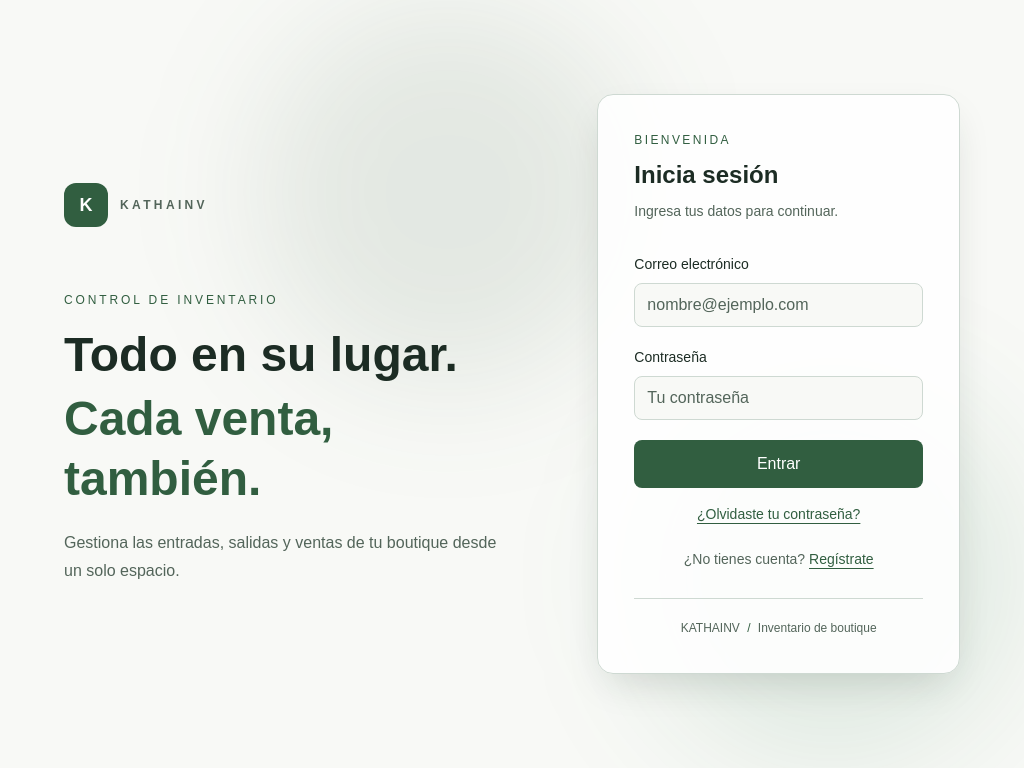
Test: LoginForm › muestra el error genérico devuelto al fallar el inicio de sesión
Type "otro@ejemplo.com" into the field labelled "Correo electrónico" at (779, 305), box 634,283 -> 923,327
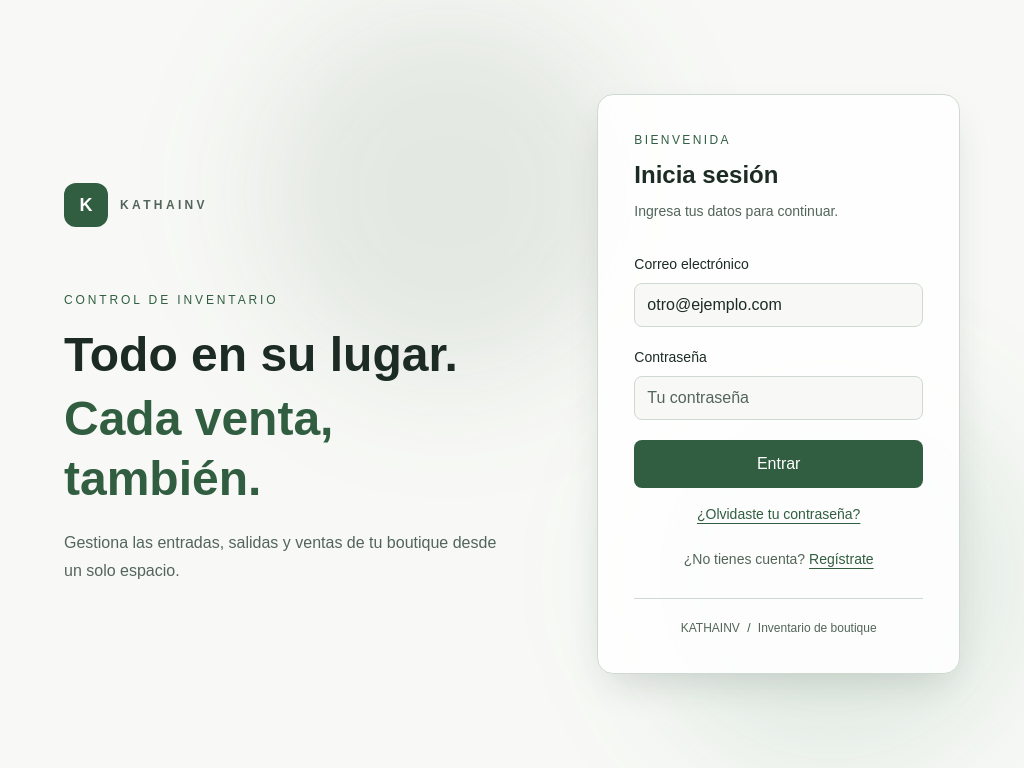
Type "incorrecta" into the password field labelled "Contraseña" at (779, 398), box 634,376 -> 923,420
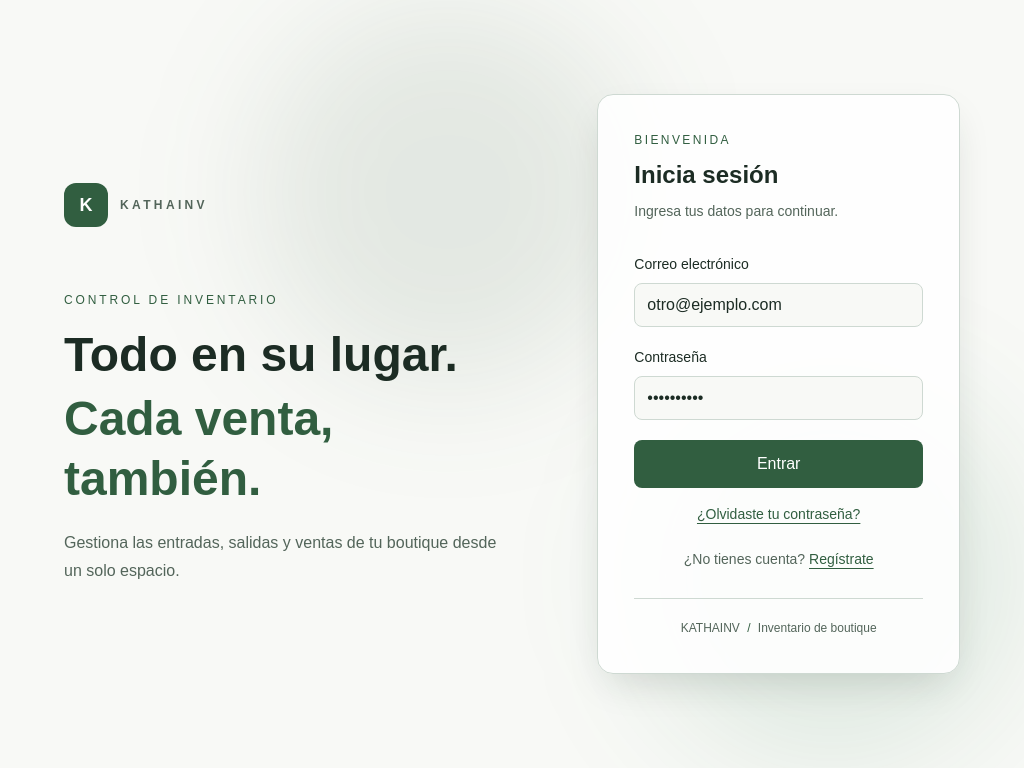
Click the button "Entrar" at (779, 464), box 634,440 -> 923,488
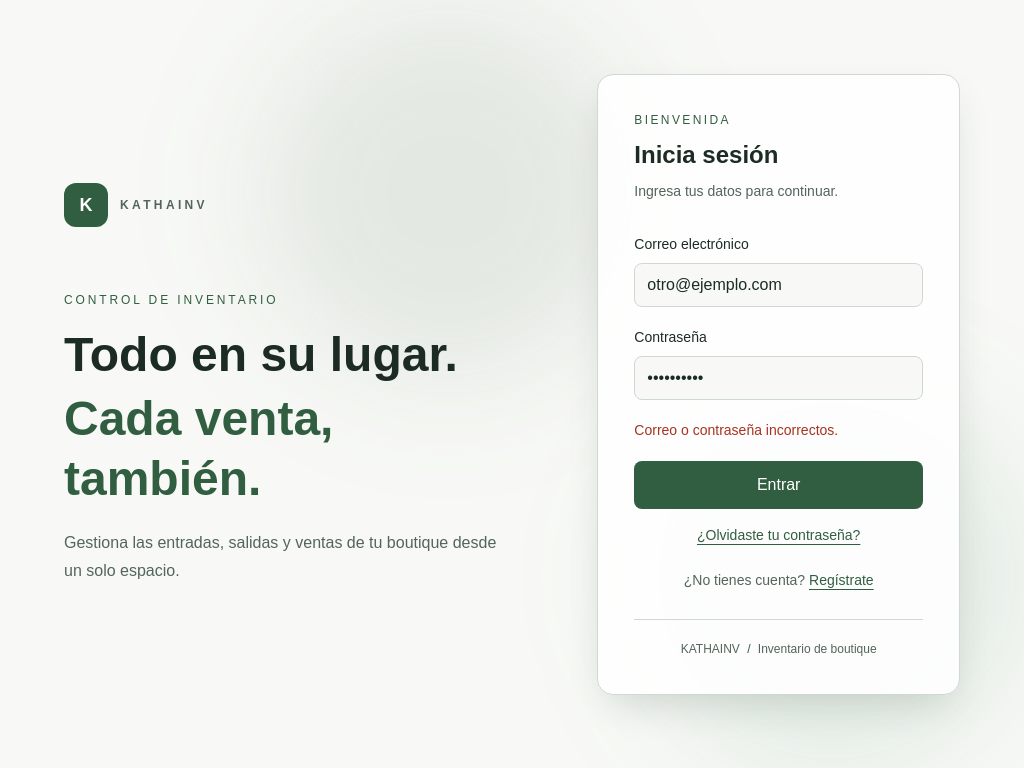
Expected: the text "Correo o contraseña incorrectos." is shown, 634,422 -> 838,438
